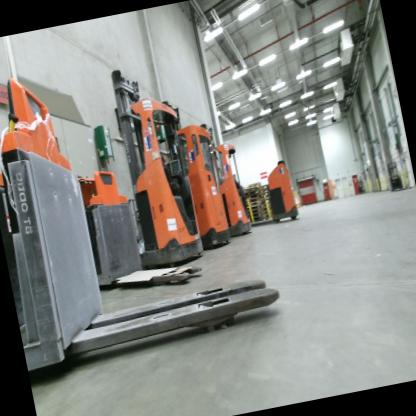forklift: (92, 46, 211, 275), (164, 95, 241, 259), (200, 130, 261, 248)
pallet: (242, 185, 259, 195), (243, 192, 260, 200), (243, 180, 260, 188), (244, 197, 261, 204), (244, 201, 261, 208), (261, 205, 273, 214), (247, 211, 262, 218), (248, 216, 263, 223), (257, 182, 269, 190), (244, 205, 260, 211), (247, 208, 261, 214), (263, 212, 274, 219), (258, 188, 269, 194), (258, 192, 270, 197), (258, 195, 270, 200)
pallet_truck: (0, 24, 296, 371), (60, 132, 208, 303), (231, 150, 304, 230), (383, 158, 408, 196)
